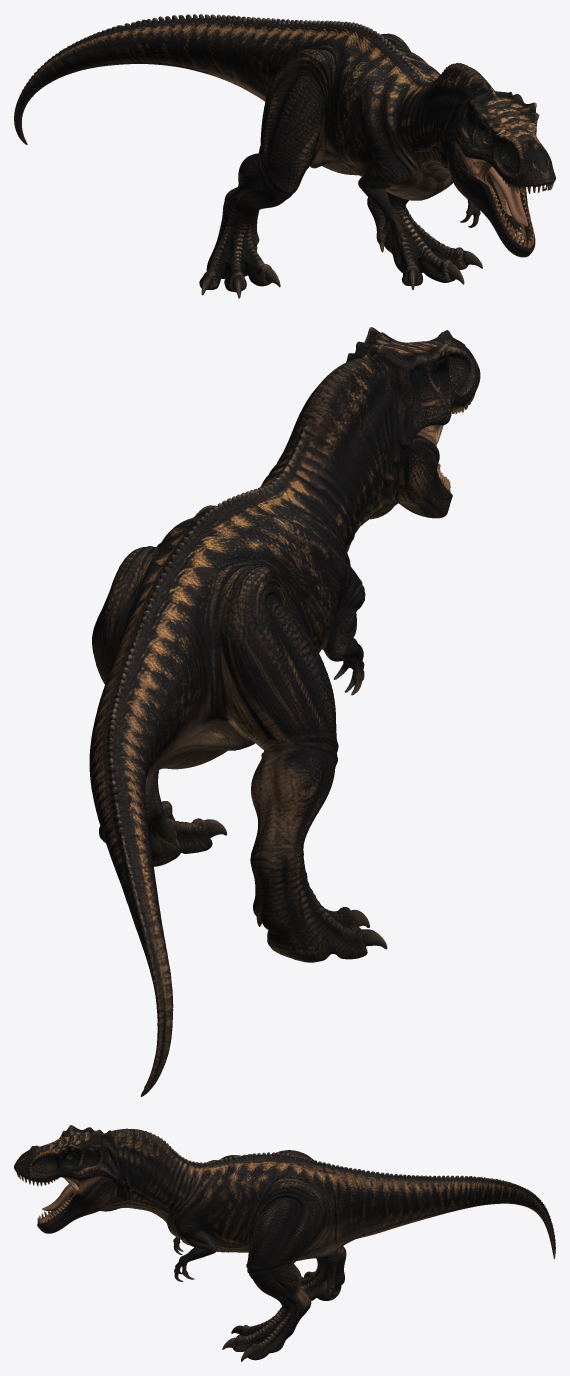
Rendered from trexglb.glb.
3 views of the same model, one above another, from view 1: azimuth 30°, elevation 25°; view 2: azimuth 150°, elevation 25°; view 3: azimuth 270°, elevation 25° (orthographic). The views are drawn at different scales.
Visible parts, largest first — view 1: Mesh_0; view 2: Mesh_0; view 3: Mesh_0.
Boxes of the visible parts, bbox=[...] form: Mesh_0: bbox=[14, 14, 555, 298]; Mesh_0: bbox=[89, 327, 480, 1096]; Mesh_0: bbox=[14, 1125, 555, 1361].
Bounding box in the file's own units: 0.7529 × 0.7844 × 1.9.
1 material, 1 textured.
